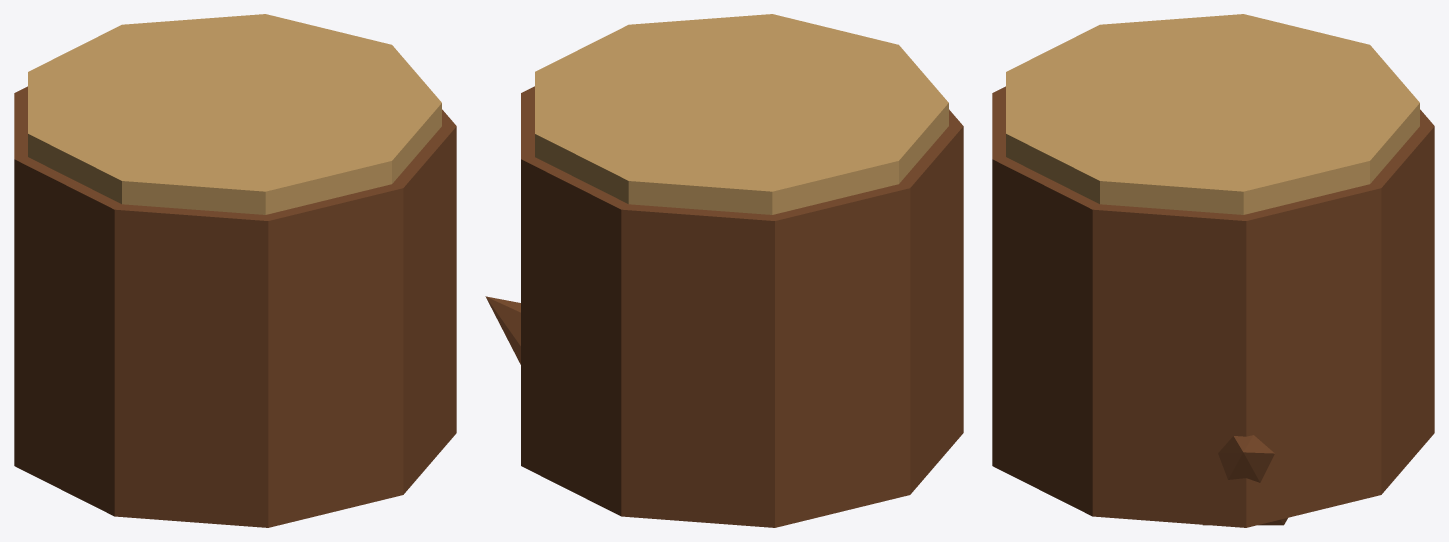
File: stump.glb
The picture shows the model from 3 angles, left to right: view 1: azimuth 30°, elevation 25°; view 2: azimuth 150°, elevation 25°; view 3: azimuth 270°, elevation 25°; orthographic projection.
Visible parts, largest first — view 1: Cone; view 2: Cone; view 3: Cone.
Part boxes in pixels (box(x1,y1,x2,y2)): Cone: box(14, 14, 456, 527); Cone: box(485, 14, 963, 527); Cone: box(992, 14, 1434, 527).
Size of the model in its own units: 0.5561 by 0.45 by 0.5001.
